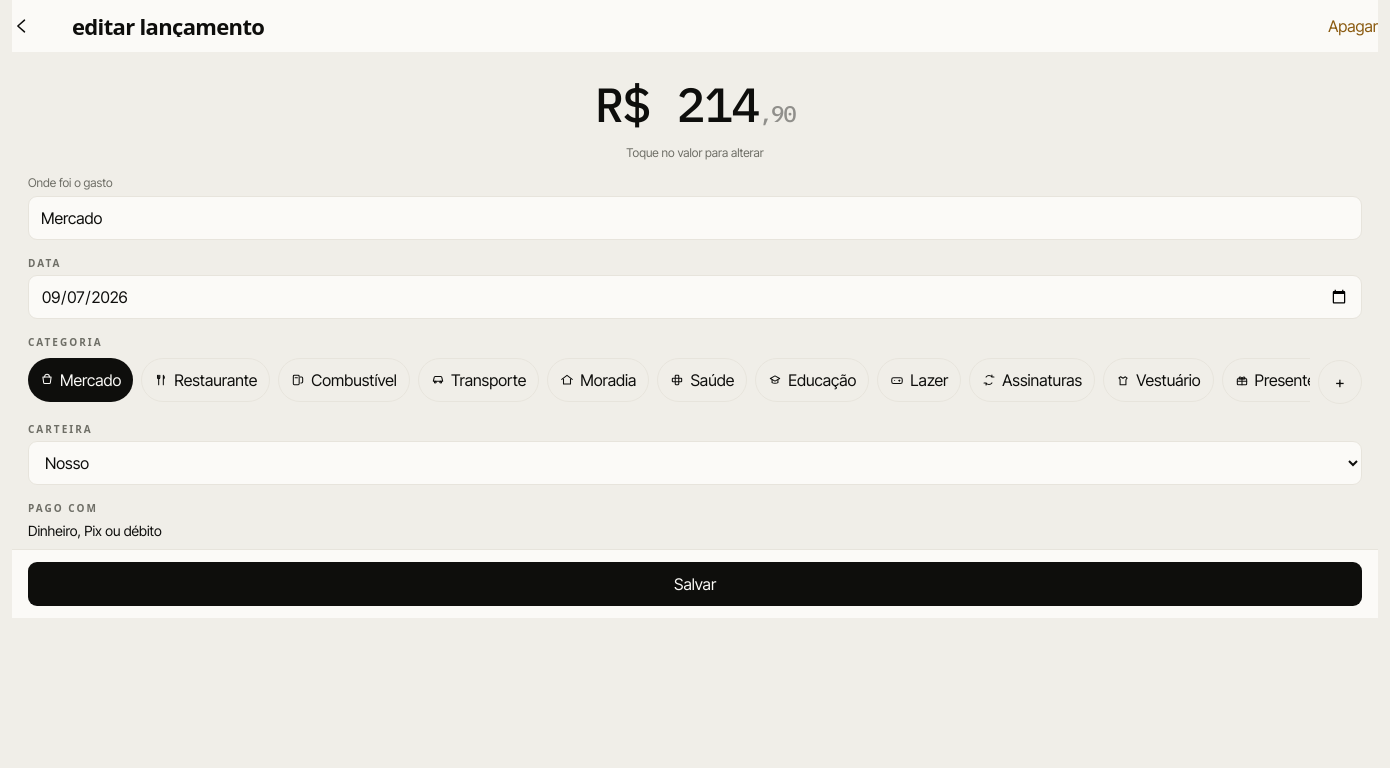
Test: EditarLancamento › avisa quando a gravação falha
Click the button "Salvar": x=695, y=584 [28, 562, 1362, 606]
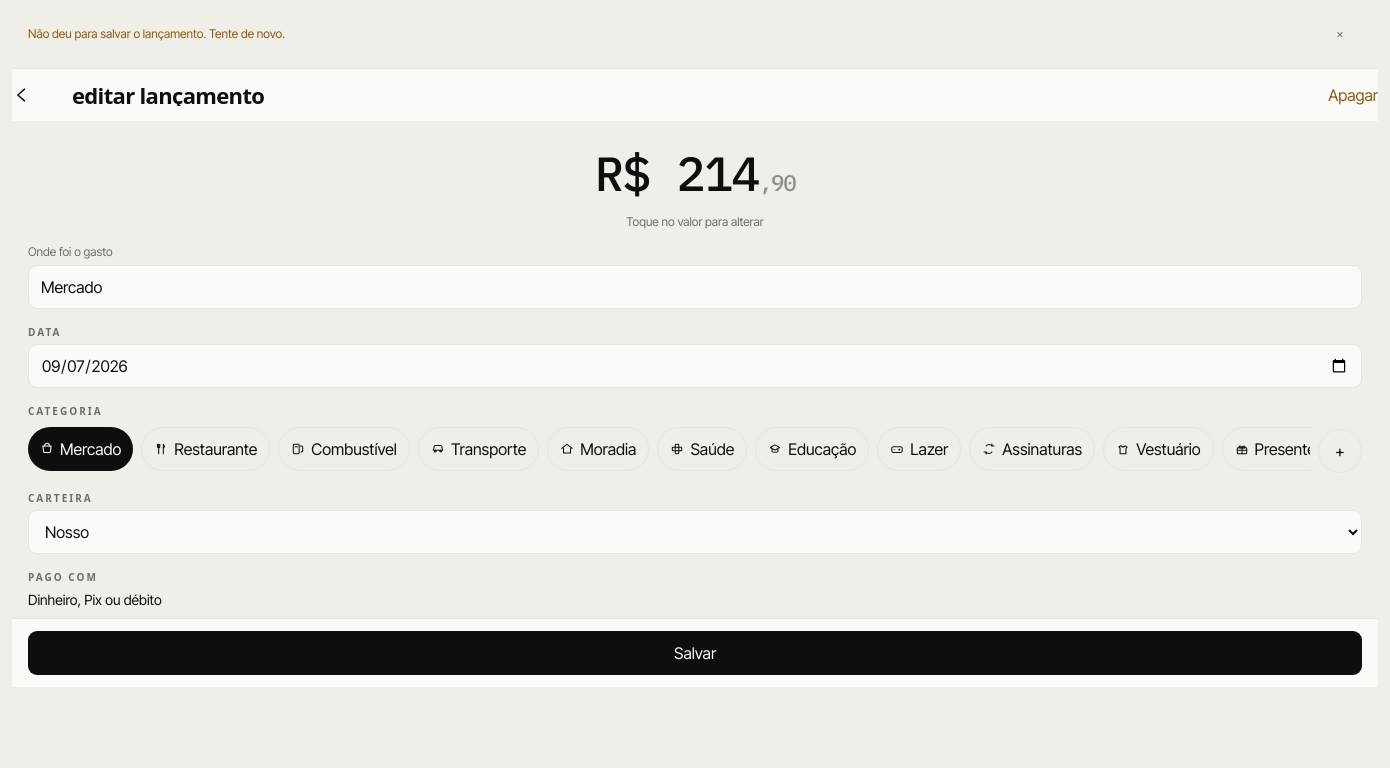
Expected: the text "Não deu para salvar o lançamento. Tente de novo." is shown, [28, 25, 285, 43]
